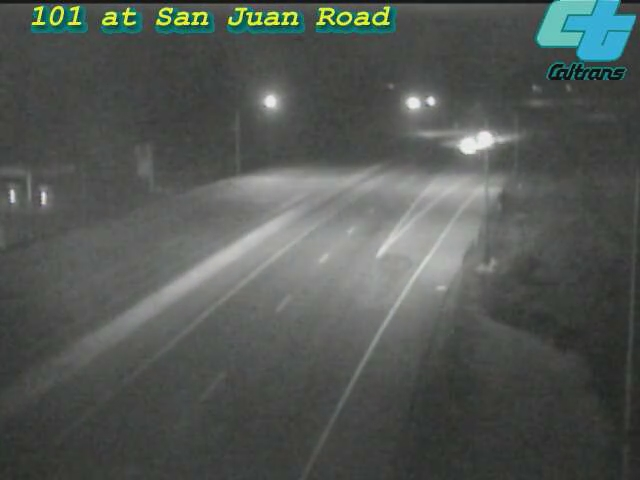vehicle: (461, 112, 511, 162), (444, 119, 494, 169)
